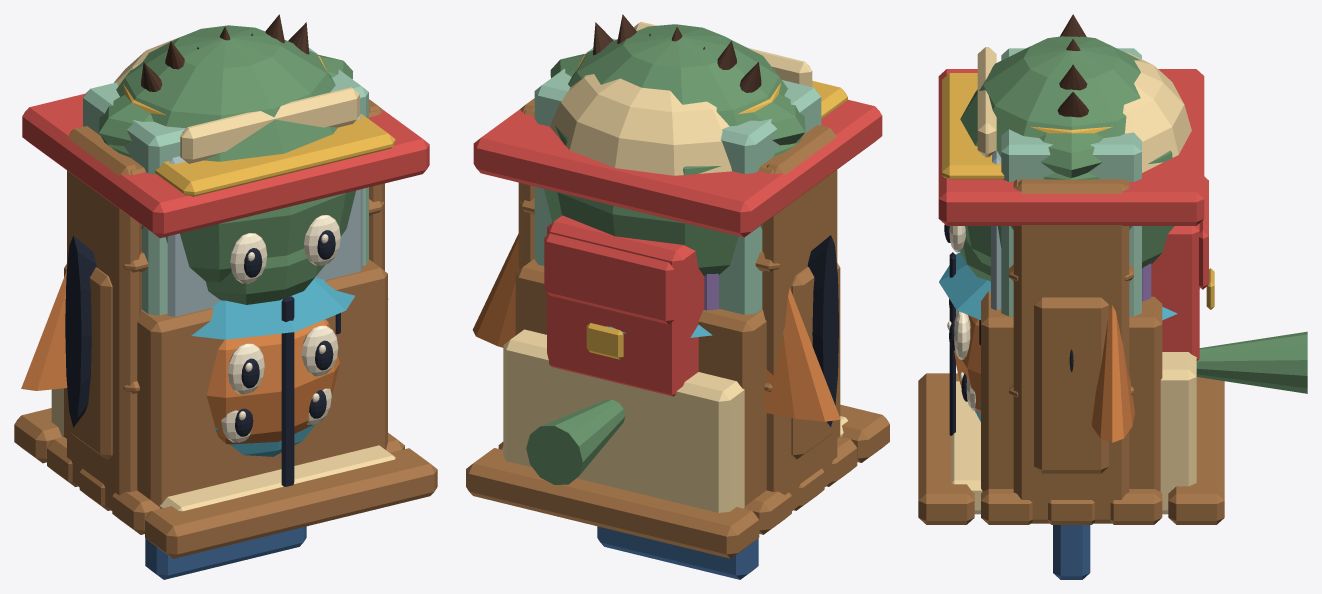
File: school-wanderer.glb
3 views of the same model, side by side, from view 1: azimuth 30°, elevation 25°; view 2: azimuth 150°, elevation 25°; view 3: azimuth 270°, elevation 25° (orthographic). The views are drawn at different scales.
Parts seen in each view (by area): view 1: stall_counter, tree_crown, stall_awning, shelf_side, bridge_plank.004, ball_enemy_body, helmet_brim, locker_body, hood_hood_front, umbrella_canopy, golem_arm, locker_door (+17 smaller); view 2: stairs_step.003, stall_awning, tree_crown, backpack_pack, hood_hood, bridge_plank, shelf_side, stall_counter, locker_body, backpack_flap, dragon_wing, dragon_tail (+14 smaller); view 3: shelf_side.001, stall_awning, tree_crown, golem_arm.001, stall_counter, locker_body, bridge_plank.004, bridge_plank, stairs_step.003, dragon_tail, backpack_pack, hood_hood (+17 smaller).
Boxes of the visible parts, box(x1,y1,x2,y2) form: stall_counter: box(64, 259, 387, 506); tree_crown: box(101, 25, 355, 282); stall_awning: box(22, 93, 429, 238); shelf_side: box(67, 126, 141, 510); bridge_plank.004: box(145, 448, 437, 558); ball_enemy_body: box(206, 319, 339, 444); helmet_brim: box(155, 114, 395, 196); locker_body: box(83, 40, 368, 315); hood_hood_front: box(180, 87, 359, 163); umbrella_canopy: box(191, 277, 354, 339); golem_arm: box(69, 267, 112, 459); locker_door: box(167, 115, 362, 316); stairs_step.003: box(503, 329, 744, 512); stall_awning: box(473, 99, 882, 237); tree_crown: box(544, 24, 802, 276); backpack_pack: box(547, 215, 704, 396); hood_hood: box(550, 74, 731, 175); bridge_plank: box(466, 448, 759, 558); shelf_side: box(762, 125, 837, 510); stall_counter: box(515, 259, 840, 506); locker_body: box(534, 38, 821, 314); backpack_flap: box(544, 233, 674, 324); dragon_wing: box(763, 288, 840, 421); dragon_tail: box(526, 399, 625, 484); shelf_side.001: box(1013, 179, 1129, 523); stall_awning: box(938, 69, 1204, 225); tree_crown: box(960, 36, 1174, 268); golem_arm.001: box(1034, 297, 1108, 473); stall_counter: box(981, 291, 1162, 491); locker_body: box(1001, 48, 1141, 316); bridge_plank.004: box(918, 373, 974, 524); bridge_plank: box(1168, 377, 1224, 524); stairs_step.003: box(1160, 352, 1196, 514); dragon_tail: box(1196, 331, 1307, 393); backpack_pack: box(1151, 223, 1199, 360); hood_hood: box(1123, 52, 1191, 172).
Size of the model in its own units: 1.3 by 1.8 by 1.25.
